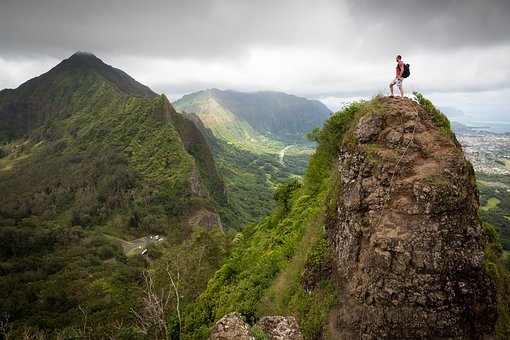mountain: (8, 54, 288, 340), (290, 96, 508, 340)
person: (387, 49, 415, 99)
sky: (2, 2, 507, 87)
